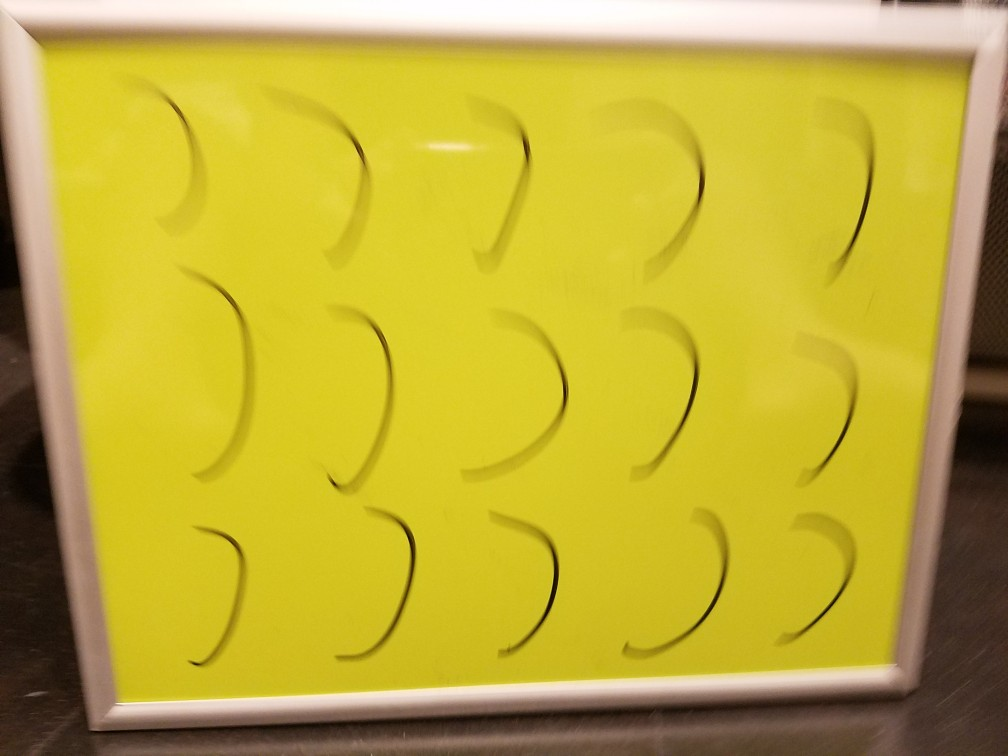): (432, 297, 583, 497), (588, 81, 729, 286), (156, 266, 277, 485), (787, 76, 892, 316), (597, 495, 742, 665), (439, 88, 557, 288), (301, 282, 405, 499), (601, 297, 717, 488), (313, 494, 432, 680), (448, 488, 573, 665), (273, 77, 383, 266), (107, 63, 215, 242), (758, 317, 870, 486), (770, 495, 869, 654), (168, 511, 256, 681)
